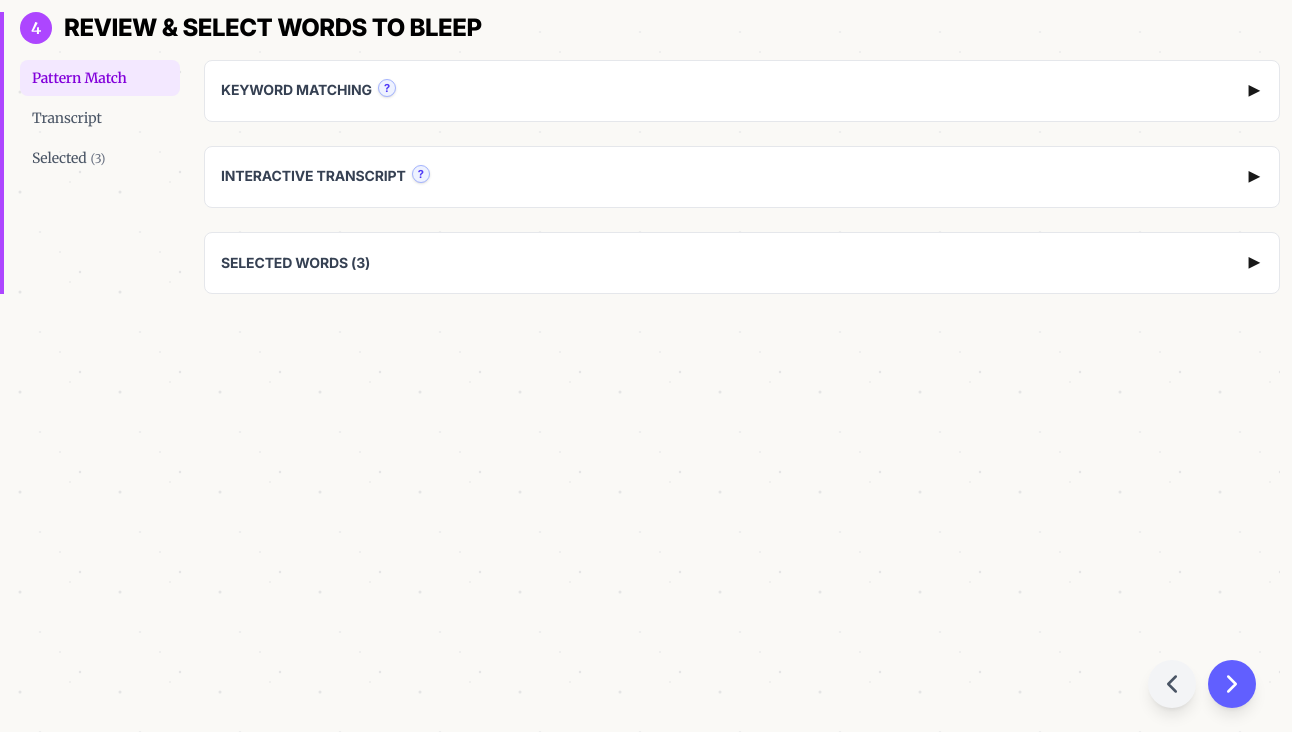
Test: ReviewMatchTab › Success message › shows success message when words are matched
Click the button "Selected Words (3) ▼" at (289, 263), box left=205, top=233, right=1279, bottom=293
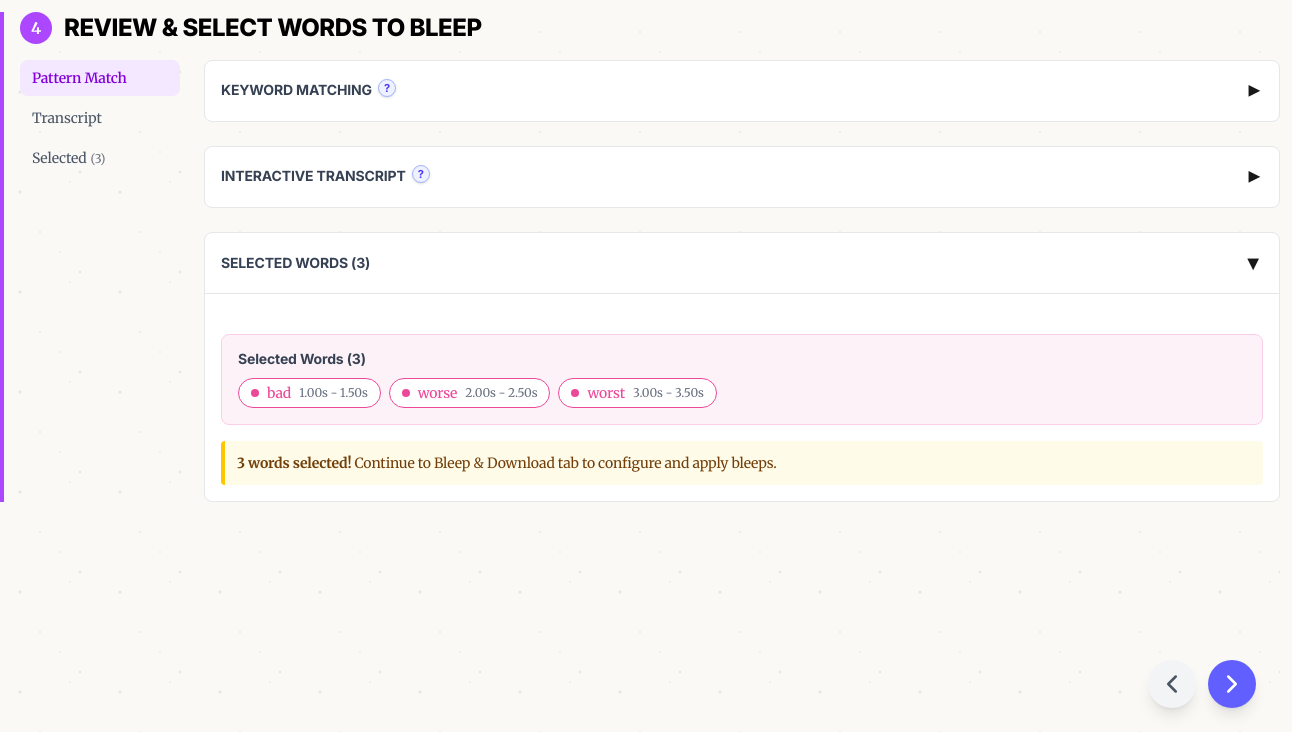
Expected: the text "3 words selected!" is shown, left=237, top=454, right=351, bottom=472
Expected: the text "Continue to Bleep & Download tab to configure and apply bleeps" is shown, left=351, top=454, right=777, bottom=472
